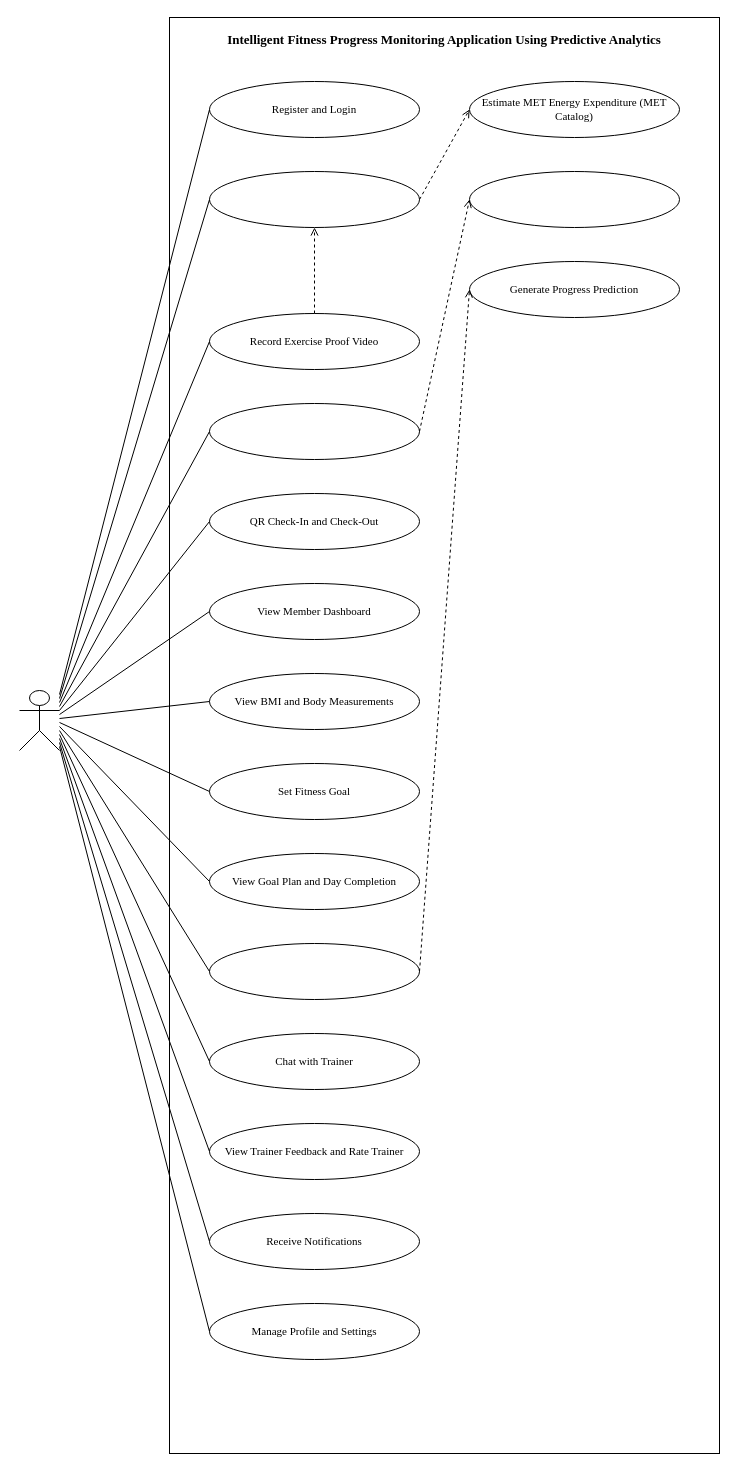
The diagram is 737 pixels wide and 1471 high, and some of its shapes have lost their labels. Here are the shapes that lost their labels. From the top down, the centre of each, then its label:
At point 314,199: "Log Workout".
At point 574,199: "Compute Nutrient Breakdown".
At point 314,431: "Log Meal".
At point 39,720: "Member".
At point 314,971: "View Progress Prediction".
